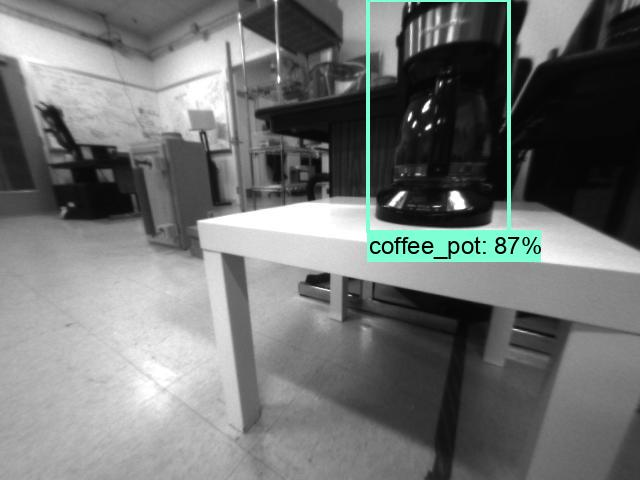coffee_pot: (373, 2, 520, 229)
